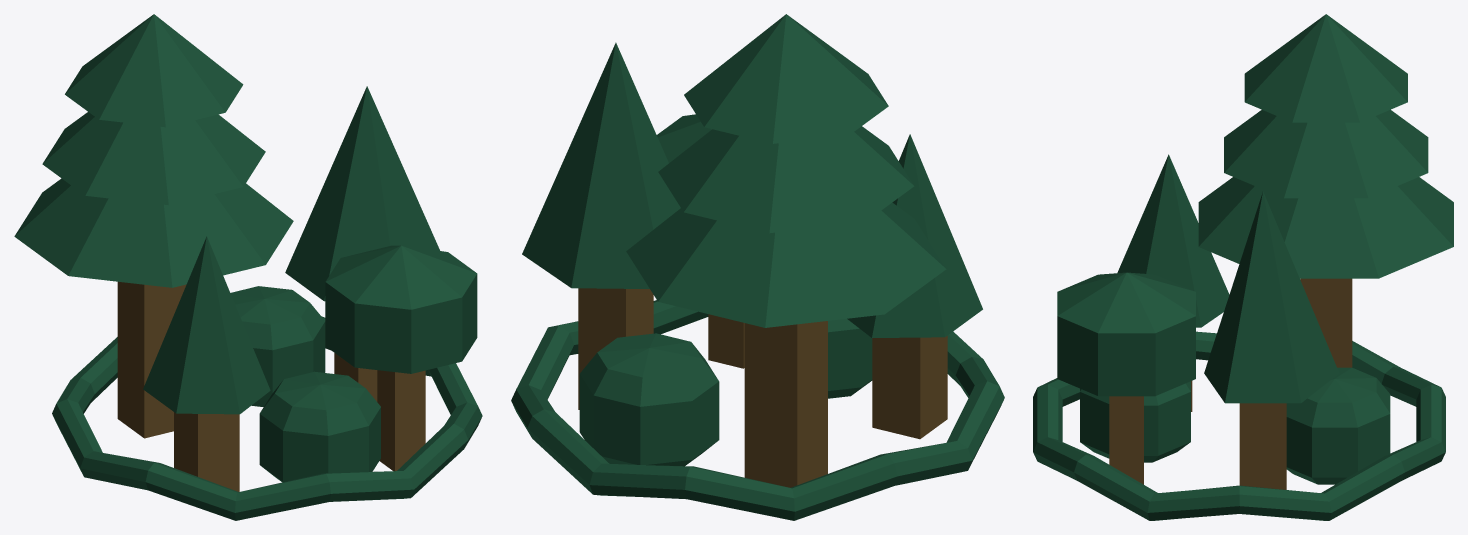
Rendered from dense-forest.obj.
3 renders of one model, left to right at view 1: azimuth 30°, elevation 25°; view 2: azimuth 150°, elevation 25°; view 3: azimuth 270°, elevation 25°, orthographic. The views are drawn at different scales.
Parts seen in each view (by area): view 1: large pine, pines, tree, bramble, bush1, bush2; view 2: large pine, pines, bramble, bush2, tree, bush1; view 3: large pine, pines, bramble, tree, bush2, bush1.
Part boxes in pixels (x1,y1,x2,y2): large pine: (14, 14, 293, 438); pines: (143, 86, 439, 491); tree: (325, 245, 477, 471); bramble: (52, 316, 482, 520); bush1: (259, 371, 380, 482); bush2: (230, 286, 325, 406); large pine: (626, 14, 946, 487); pines: (522, 42, 982, 439); bramble: (511, 300, 1004, 520); bush2: (579, 333, 719, 466); tree: (657, 114, 744, 368); bush1: (828, 318, 872, 398); large pine: (1198, 14, 1453, 367); pines: (1117, 154, 1339, 489); bramble: (1033, 331, 1445, 520); tree: (1057, 272, 1195, 484); bush2: (1286, 367, 1390, 484); bush1: (1080, 381, 1190, 462).
Size of the model in its own units: 0.7629 by 0.7973 by 0.7581.
1 material, 1 textured.
